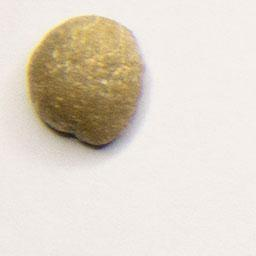defect: (23, 11, 151, 152)
